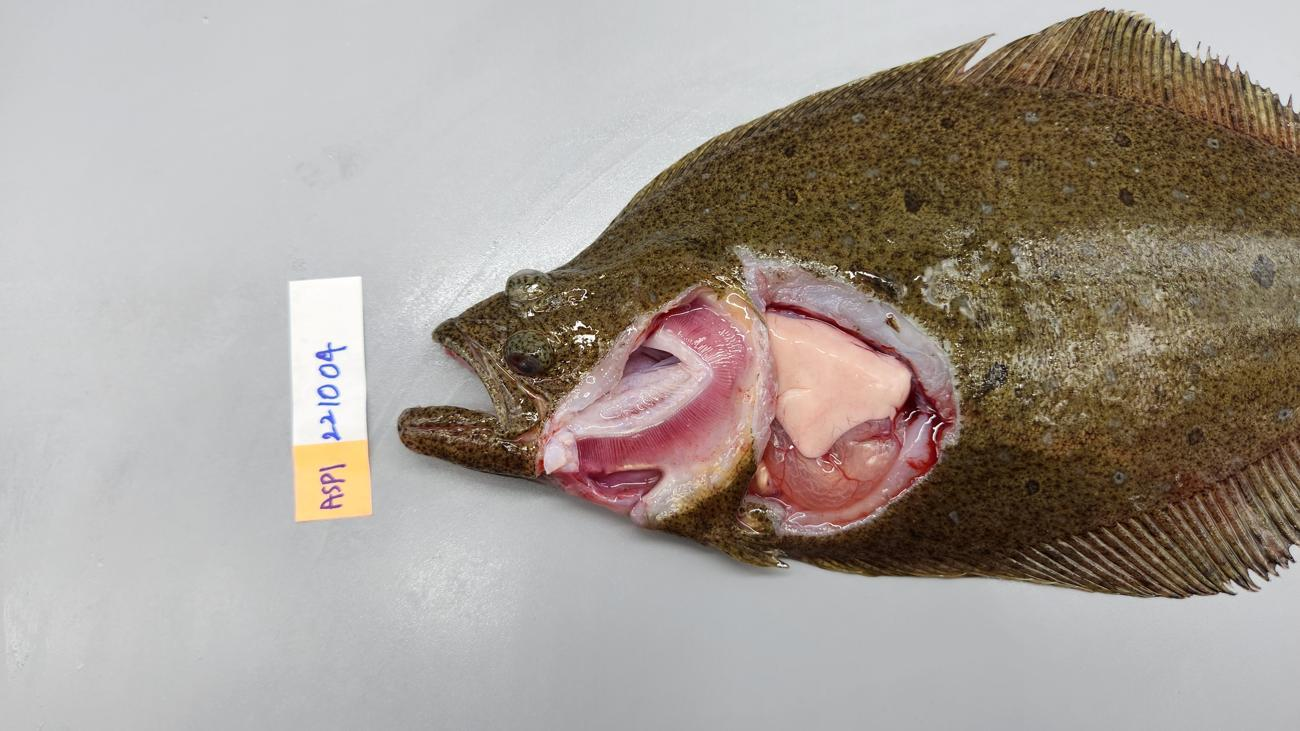SPGIP: (577, 297, 748, 466)
